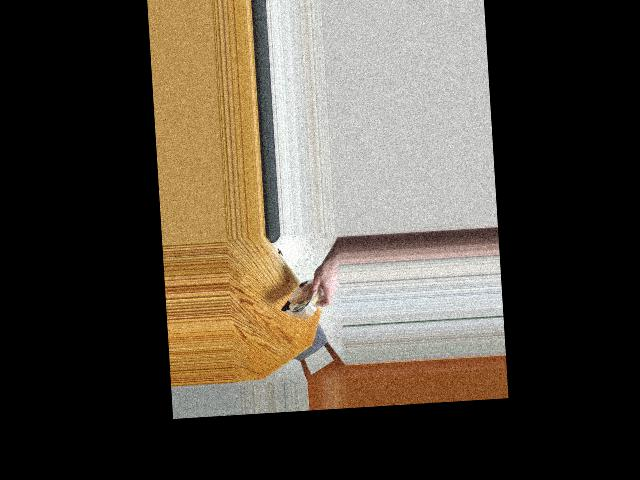cheese: (279, 266, 323, 326)
